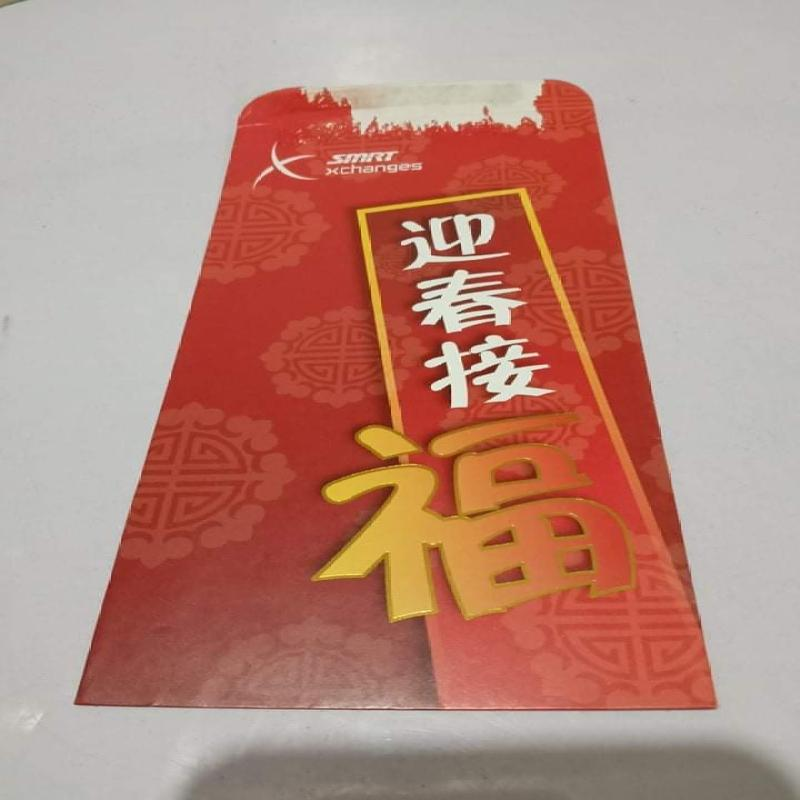paper: (75, 79, 717, 715)
